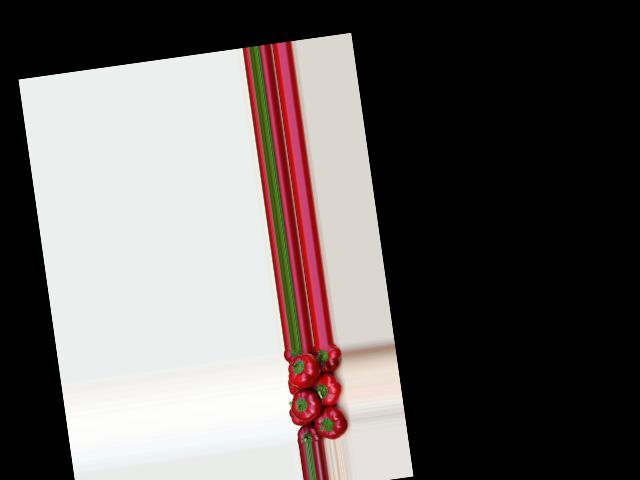bell_pepper: (286, 380, 301, 395)
